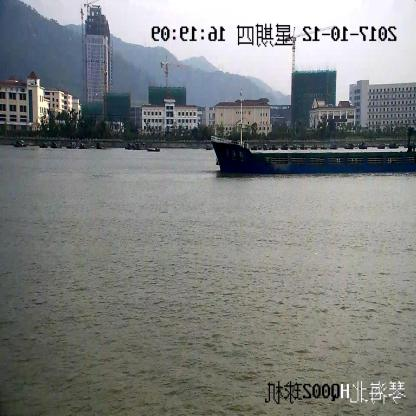Bulk Carrier: (212, 89, 416, 174)
